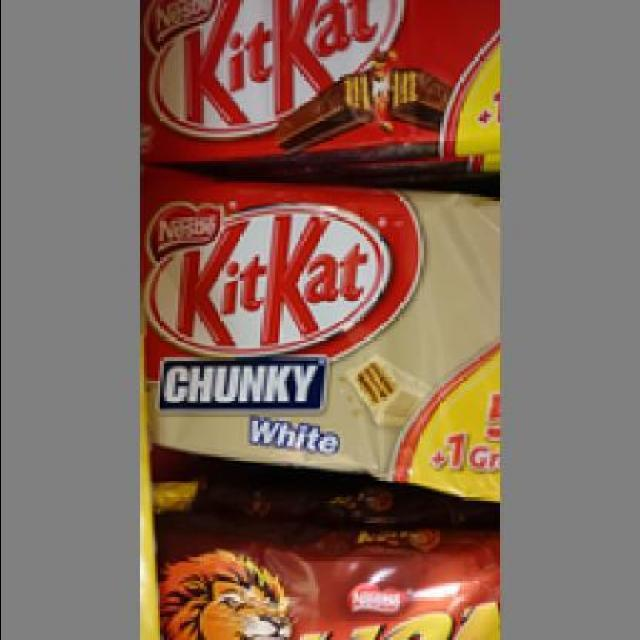Chocolate bar: (146, 172, 503, 492), (140, 2, 503, 164), (157, 506, 503, 637)
